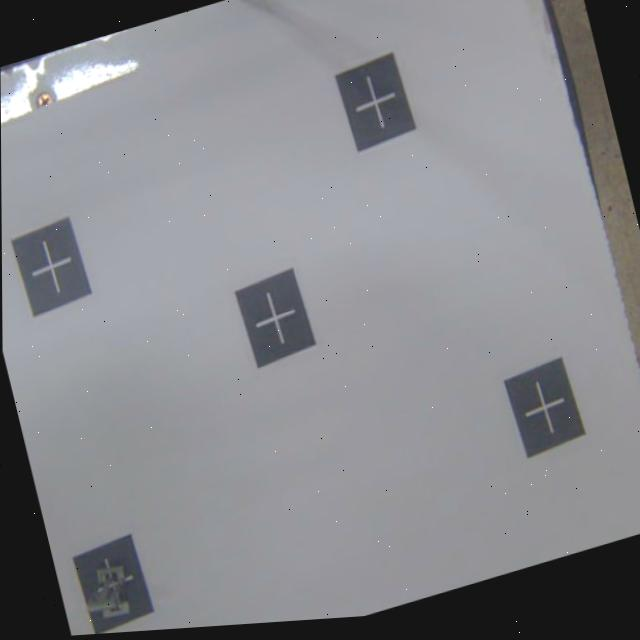pick4: (72, 533, 156, 633)
